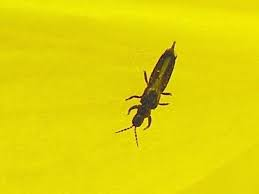Phlaeothripidae: (114, 38, 177, 148)
